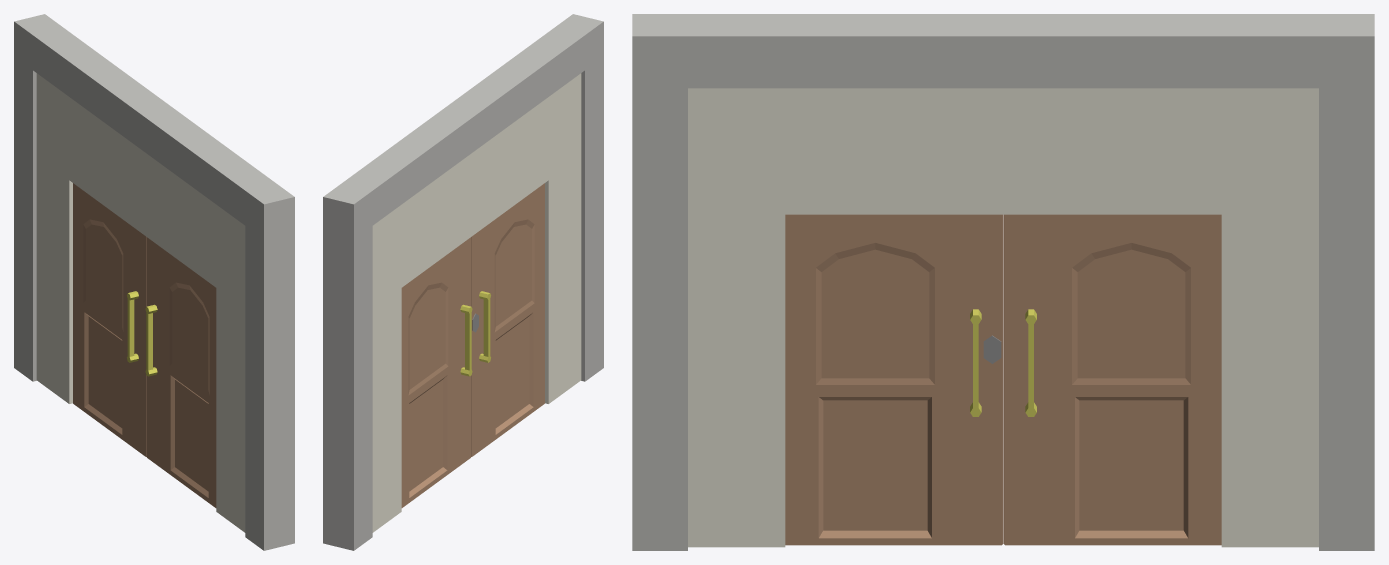
File: Door01_house2.fbx
3 renders of one model, left to right at view 1: azimuth 30°, elevation 25°; view 2: azimuth 150°, elevation 25°; view 3: azimuth 270°, elevation 25°, orthographic. The views are drawn at different scales.
Visible parts, largest first — view 1: Door1_House2; view 2: Door1_House2; view 3: Door1_House2.
Part boxes in pixels (box(x1,y1,x2,y2)): Door1_House2: box(14, 14, 294, 550); Door1_House2: box(323, 14, 603, 550); Door1_House2: box(632, 14, 1374, 550).
Size of the model in its own units: 36.6 by 368 by 481.
